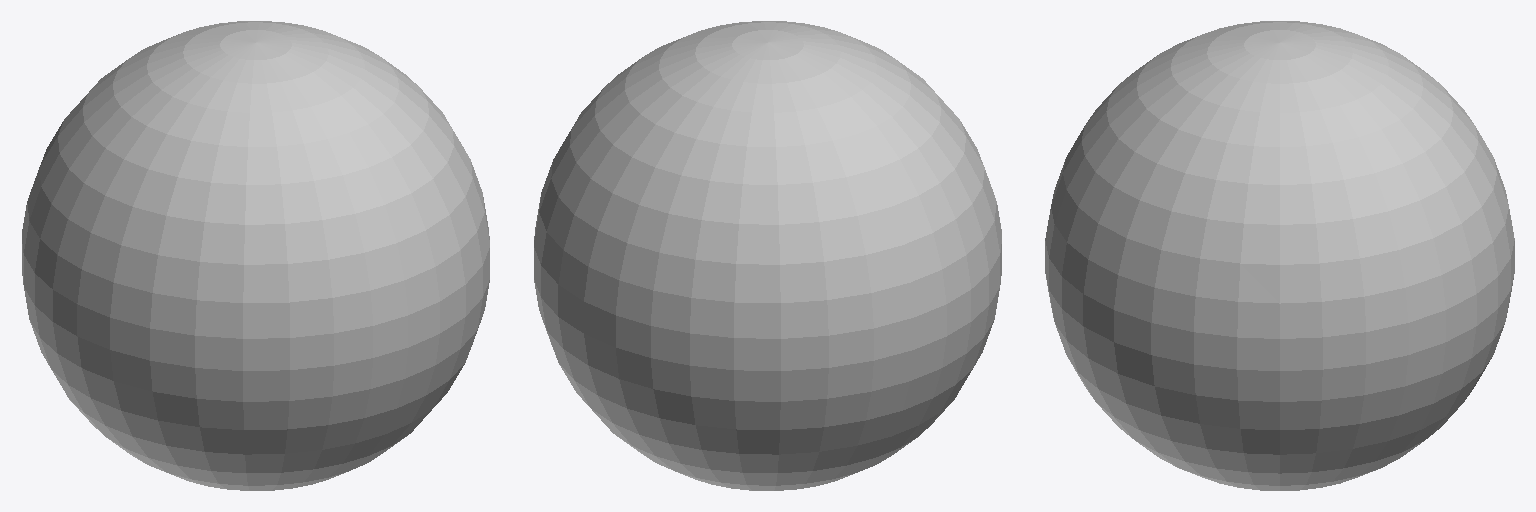
Rendered from smooth_ball.obj.
The picture shows the model from 3 angles: view 1: azimuth 30°, elevation 25°; view 2: azimuth 150°, elevation 25°; view 3: azimuth 270°, elevation 25°; orthographic projection.
Parts seen in each view (by area): view 1: NURBS球_NURBS球.001; view 2: NURBS球_NURBS球.001; view 3: NURBS球_NURBS球.001.
Part boxes in pixels (left/top/right/bottom): NURBS球_NURBS球.001: left=22, top=21, right=489, bottom=490; NURBS球_NURBS球.001: left=534, top=21, right=1001, bottom=490; NURBS球_NURBS球.001: left=1045, top=21, right=1514, bottom=490.
Bounding box in the file's own units: 1.99 × 2 × 1.99.